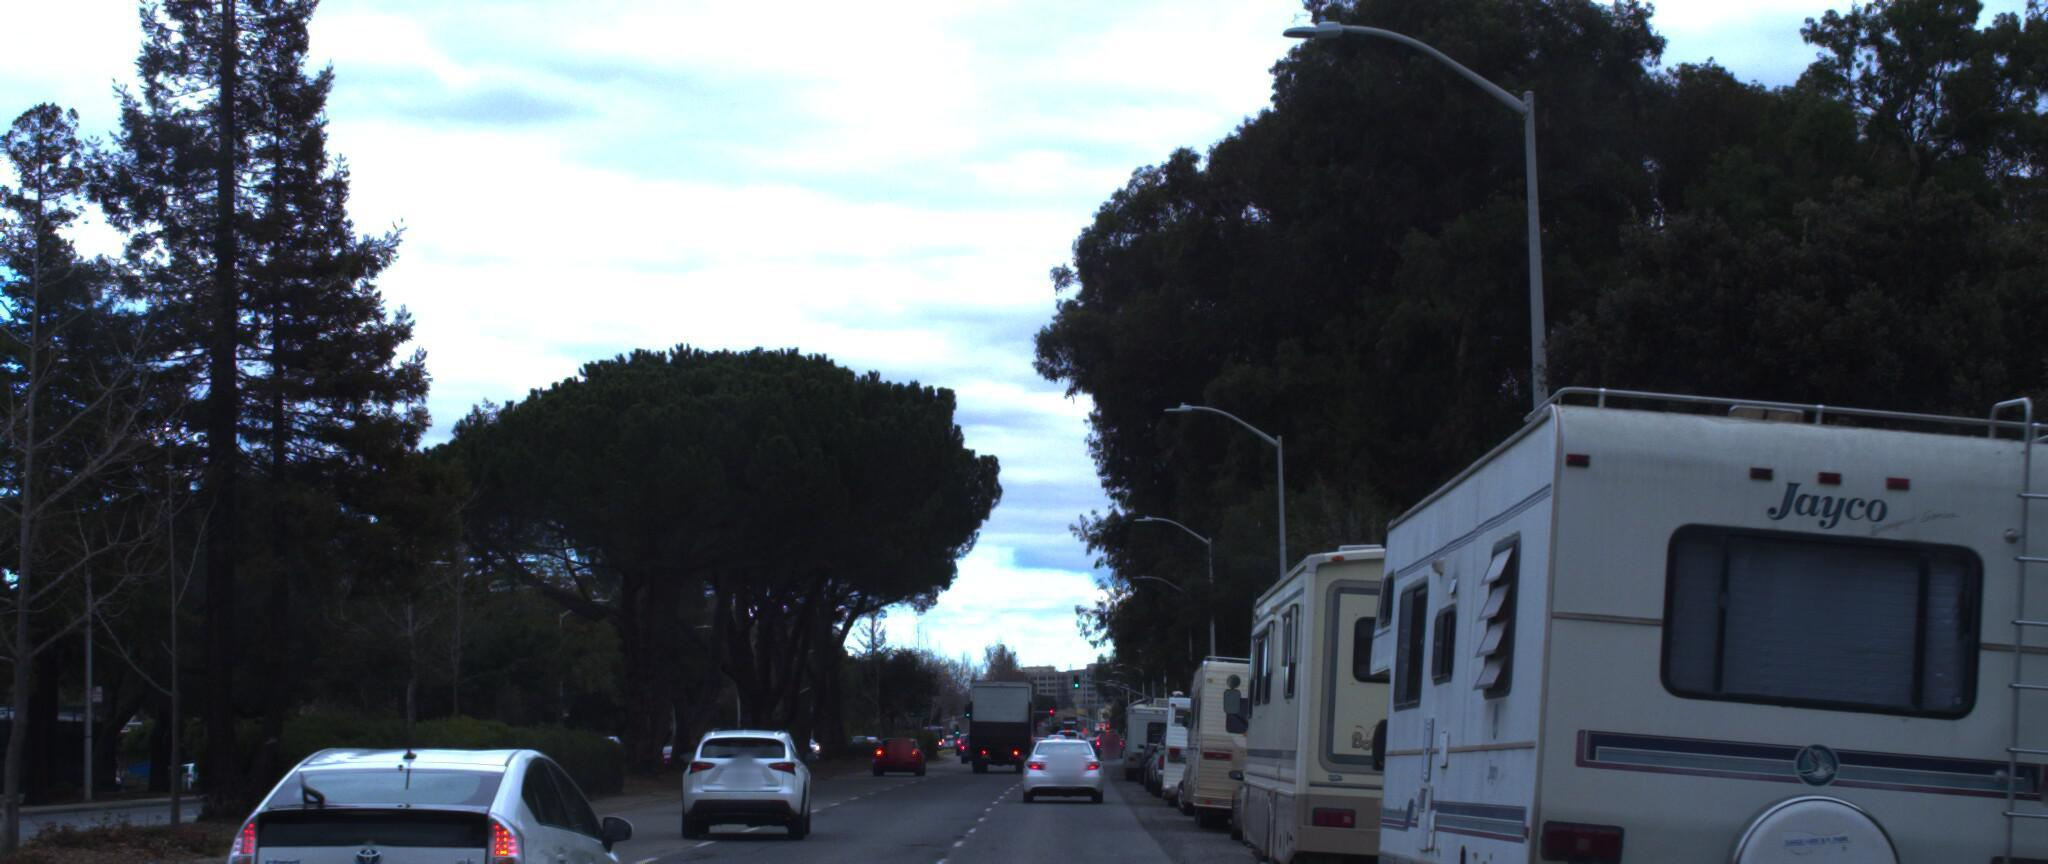car: (195, 718, 665, 864), (686, 713, 823, 824), (1020, 717, 1105, 790), (0, 743, 5, 824)
other_vehicle: (1324, 324, 2048, 864), (1230, 489, 1627, 864), (1174, 619, 1356, 824), (1151, 672, 1254, 794)
